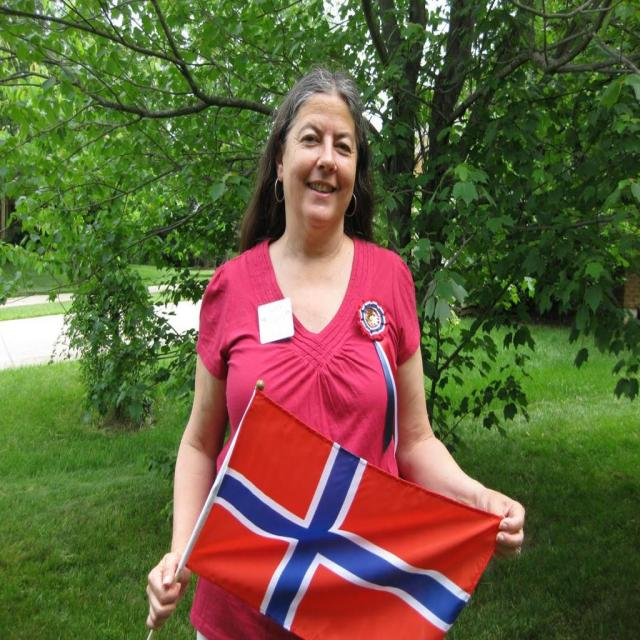Face: (277, 85, 367, 231)
